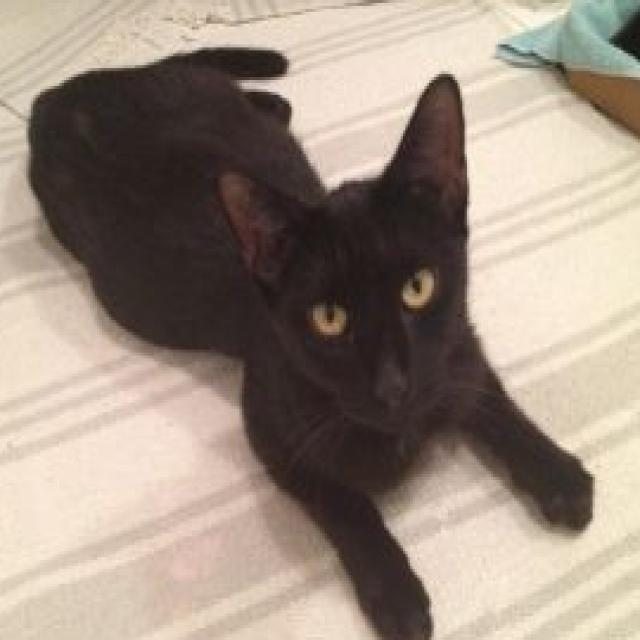Bombay: (23, 38, 599, 640)
